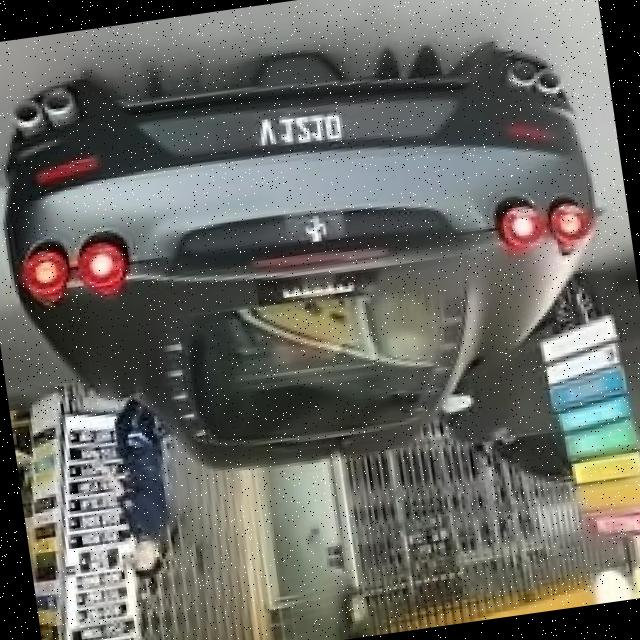License_Plate: (143, 78, 463, 180)
car: (1, 12, 605, 507)
